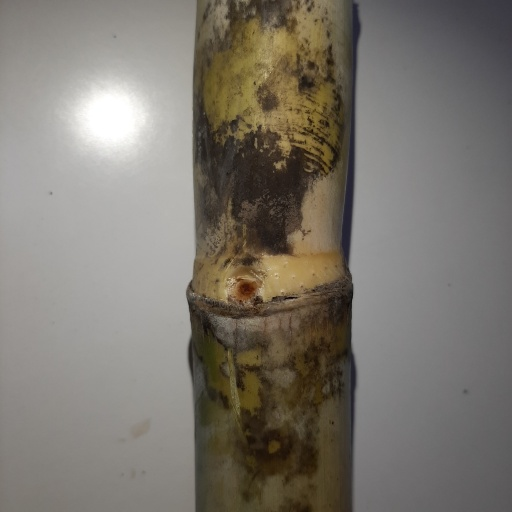Damage_Bud: (224, 273, 262, 303)
